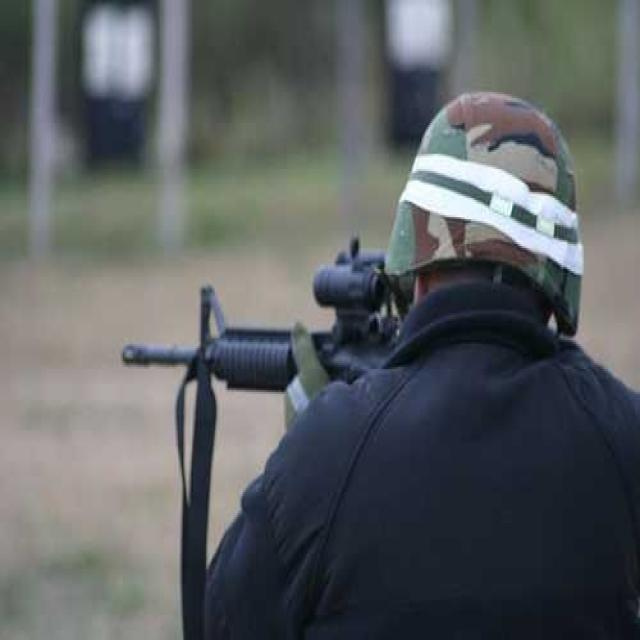heavyweapon: (70, 245, 441, 434)
